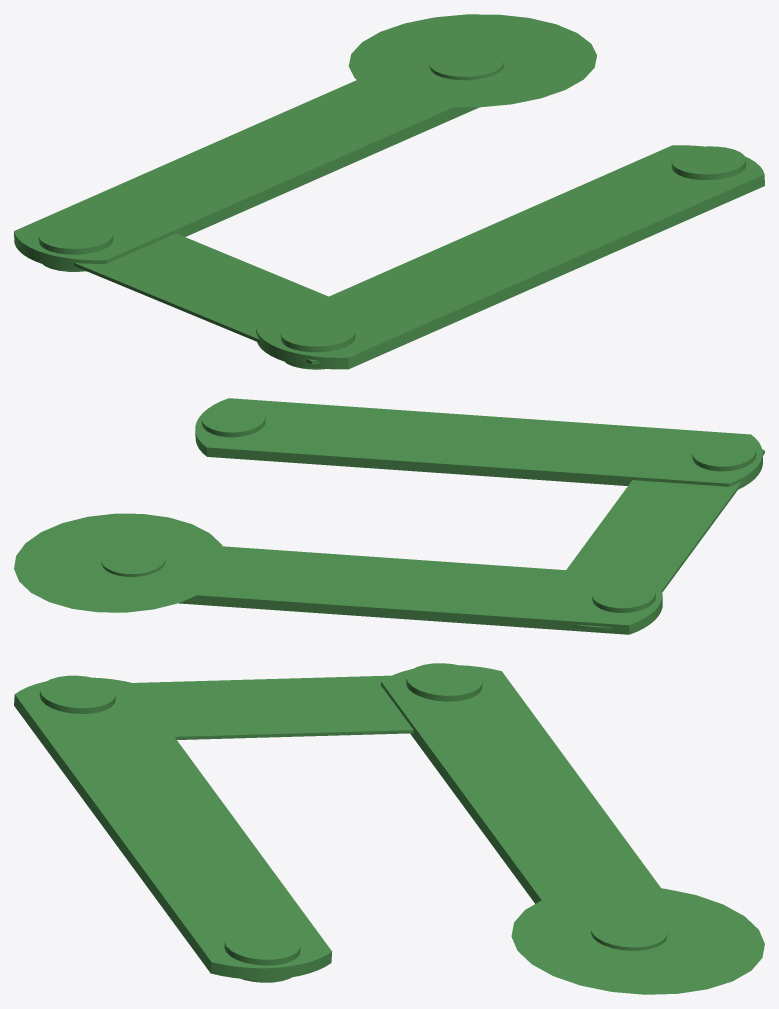
File: FngJntNmlLeft.dae
The picture shows the model from 3 angles, top to bottom: view 1: azimuth 30°, elevation 25°; view 2: azimuth 150°, elevation 25°; view 3: azimuth 270°, elevation 25°; orthographic projection. The views are drawn at different scales.
Parts seen in each view (by area): view 1: group_3 (×3), group_1 (×3), group_0, group_2; view 2: group_3 (×3), group_1 (×3), group_0, group_2; view 3: group_3 (×3), group_1 (×3), group_0, group_2.
Part boxes in pixels (x1,y1,x2,y2): group_3 (×3): (256,145,764,369); group_1 (×3): (14,49,503,271); group_0: (348,14,596,107); group_2: (73,233,328,364); group_3 (×3): (195,398,762,489); group_1 (×3): (101,544,662,634); group_0: (14,513,226,612); group_2: (566,449,764,630); group_3 (×3): (14,675,332,982); group_1 (×3): (381,663,667,950); group_0: (511,886,764,994); group_2: (133,675,413,739).
Bounding box in the file's own units: 23.4 × 23.25 × 1.96.
